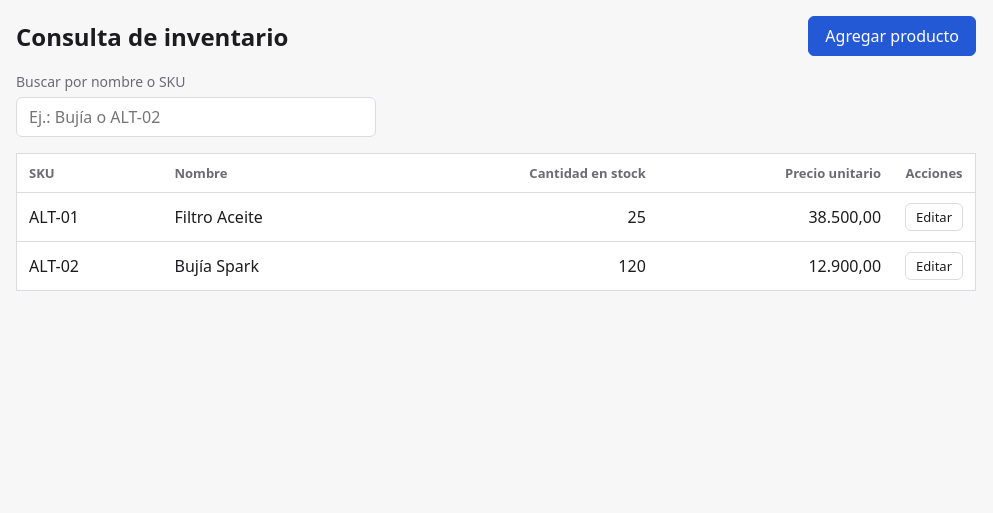
Test case: App › edición de producto › Cancelar cierra el formulario sin guardar y la tabla conserva los datos originales
Click the button with aria-label "Editar Bujía Spark" at (934, 266), box [905,252,963,280]
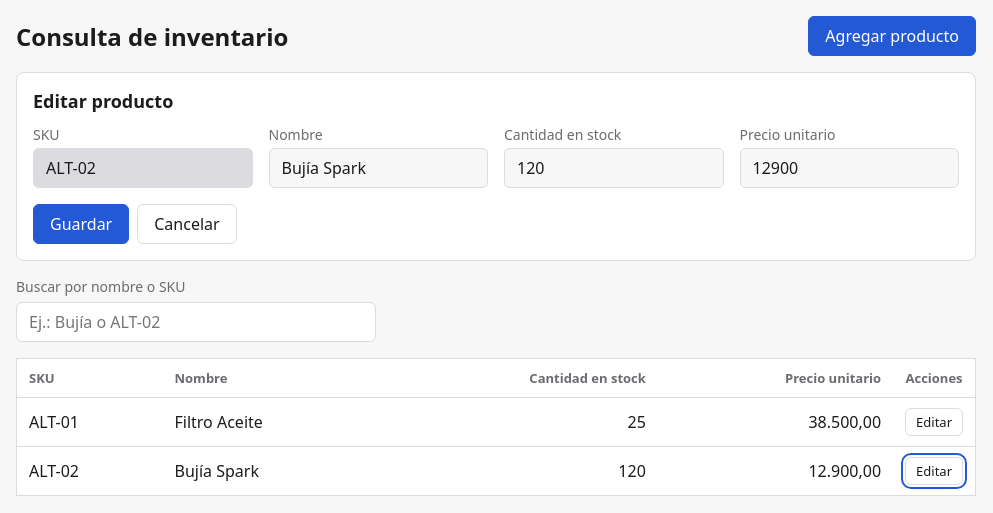
Replace the text in the field labelled "Nombre" with "Otro nombre" at (378, 168), box [268,148,488,188]
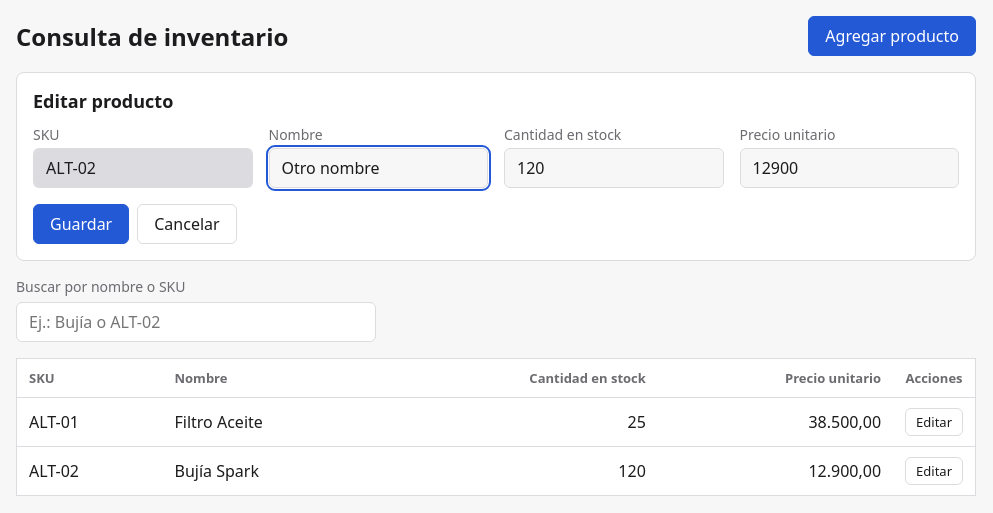
Click the button "Cancelar" at (187, 224), box [137,204,237,244]
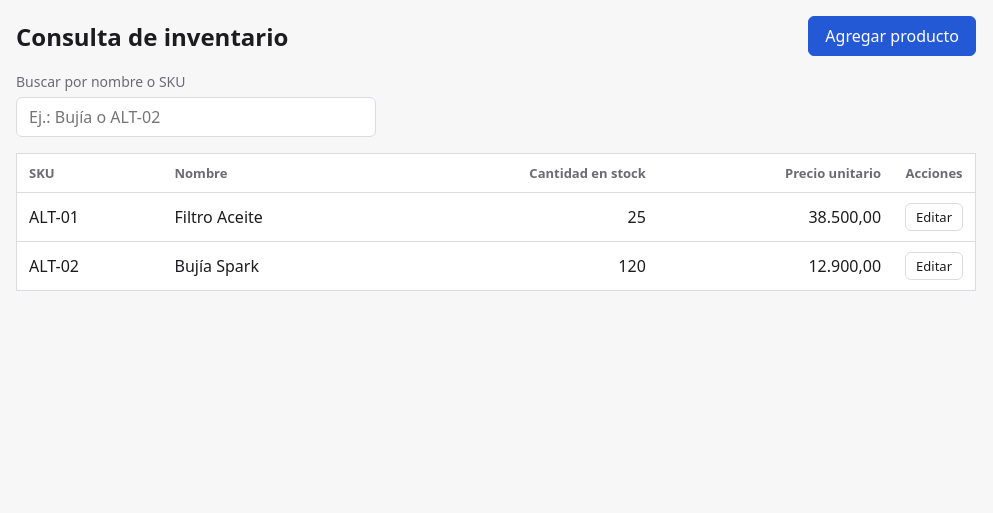
Now the heading "Editar producto" is gone
